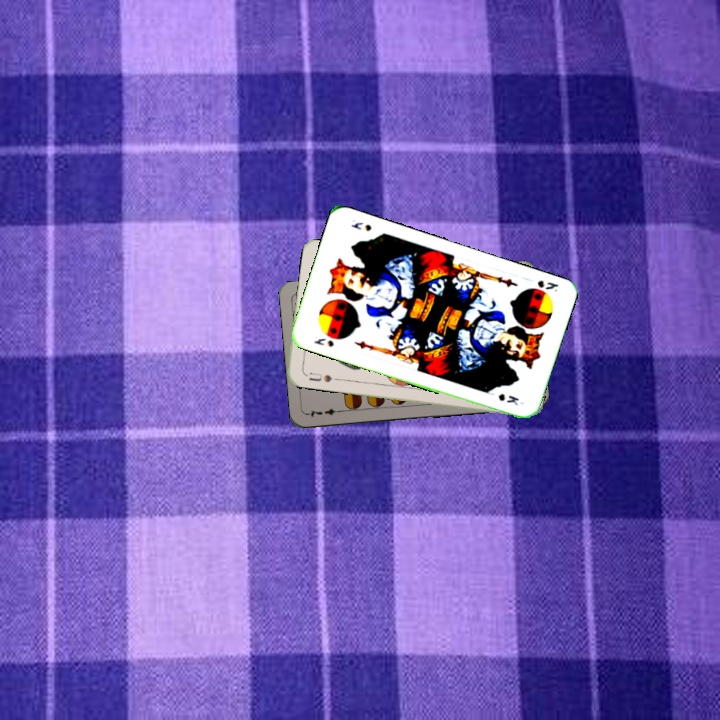E7: (304, 405, 345, 420)
SK: (533, 276, 561, 294), (310, 334, 337, 350)
SU: (305, 368, 340, 385)
